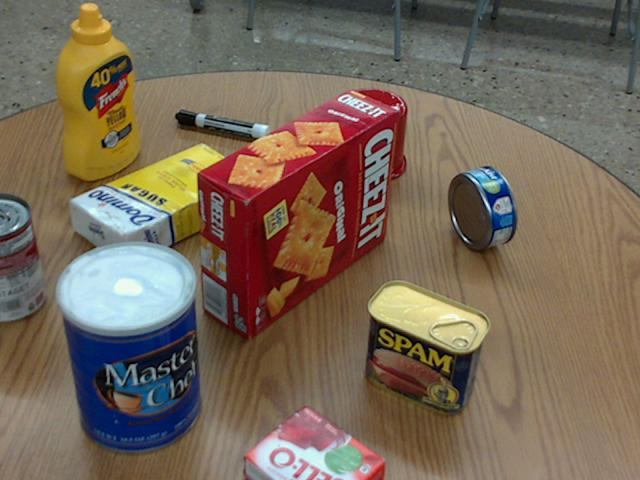cracker_box: (198, 89, 397, 336)
gelatin_box: (242, 405, 386, 479)
large_marker: (175, 109, 268, 139)
master_chef_can: (56, 242, 200, 453)
mug: (322, 88, 406, 182)
mustard_bottle: (57, 5, 138, 179)
potted_meat_can: (364, 279, 488, 413)
sugar_box: (69, 141, 252, 266)
tomato_soup_can: (0, 192, 44, 321)
tuna_fish_can: (446, 165, 516, 248)
